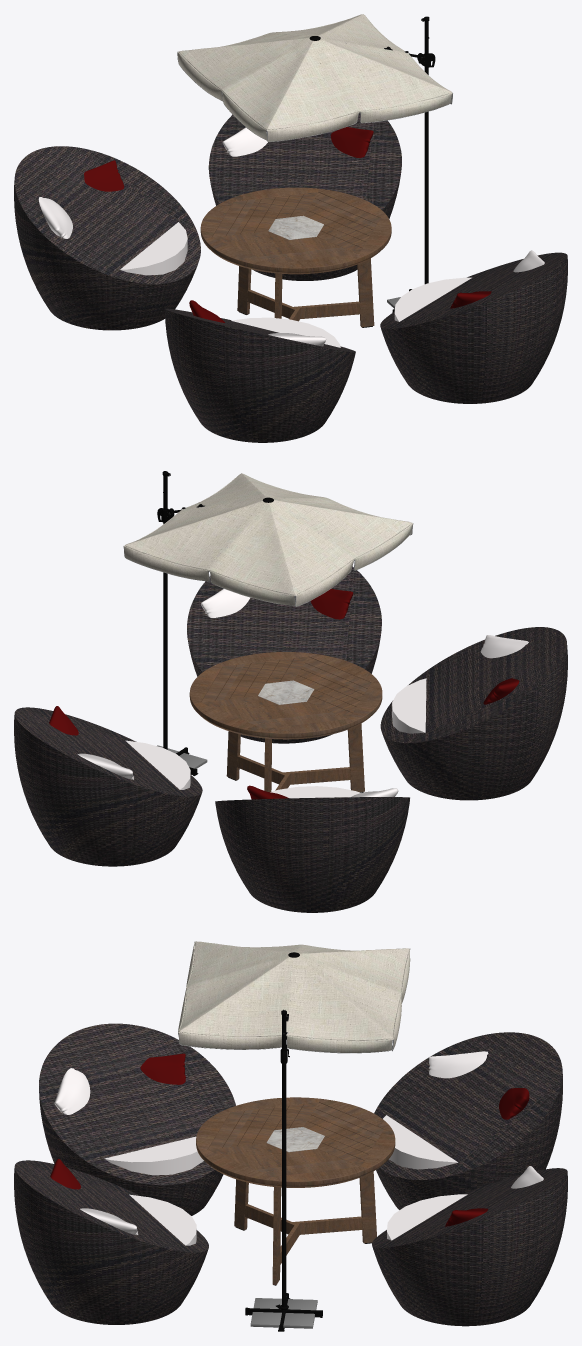
Rendered from 户外桌椅套组2.fbx.
3 views of the same model, one above another, from view 1: azimuth 30°, elevation 25°; view 2: azimuth 150°, elevation 25°; view 3: azimuth 270°, elevation 25° (orthographic). The views are drawn at different scales.
Parts seen in each view (by area): view 1: Group15, ____www_3dfox_cn_dtzl_2624_1057, Group11, Group7, ____www_3dfox_cn_dtzl_2624_1026, Group3, Group17, Group13, Group9, ____www_3dfox_cn_dtzl_2624_1048, coussin, coussin6 (+2 smaller); view 2: ____www_3dfox_cn_dtzl_2624_1057, Group7, Group3, Group15, ____www_3dfox_cn_dtzl_2624_1026, Group11, Group9, Group5, ____www_3dfox_cn_dtzl_2624_1048, coussin5, coussin4, Group17 (+1 smaller); view 3: ____www_3dfox_cn_dtzl_2624_1057, Group7, Group15, Group11, Group3, ____www_3dfox_cn_dtzl_2624_1026, Group9, ____www_3dfox_cn_dtzl_2624_1047, Group17, Group13, Group5, ____www_3dfox_cn_dtzl_2624_1048 (+6 smaller).
Boxes of the visible parts, <box> form: Group15: <box>14,146,200,330</box>; ____www_3dfox_cn_dtzl_2624_1057: <box>177,14,452,141</box>; Group11: <box>380,252,567,403</box>; Group7: <box>164,308,355,442</box>; ____www_3dfox_cn_dtzl_2624_1026: <box>200,187,391,327</box>; Group3: <box>208,112,401,280</box>; Group17: <box>120,222,187,275</box>; Group13: <box>394,277,471,321</box>; Group9: <box>231,317,340,347</box>; ____www_3dfox_cn_dtzl_2624_1048: <box>421,16,429,284</box>; coussin: <box>330,127,373,158</box>; coussin6: <box>84,160,124,191</box>; ____www_3dfox_cn_dtzl_2624_1057: <box>124,473,412,606</box>; Group7: <box>380,627,567,800</box>; Group3: <box>14,707,202,866</box>; Group15: <box>215,797,409,912</box>; ____www_3dfox_cn_dtzl_2624_1026: <box>189,652,382,792</box>; Group11: <box>187,566,381,743</box>; Group9: <box>392,678,426,733</box>; Group5: <box>125,740,190,789</box>; ____www_3dfox_cn_dtzl_2624_1048: <box>162,471,170,749</box>; coussin5: <box>201,589,250,617</box>; coussin4: <box>311,588,353,619</box>; Group17: <box>270,786,360,798</box>; ____www_3dfox_cn_dtzl_2624_1057: <box>178,941,410,1052</box>; Group7: <box>39,1023,235,1215</box>; Group15: <box>374,1032,562,1209</box>; Group11: <box>14,1160,208,1324</box>; Group3: <box>372,1168,567,1326</box>; ____www_3dfox_cn_dtzl_2624_1026: <box>196,1097,395,1285</box>; Group9: <box>104,1136,203,1175</box>; ____www_3dfox_cn_dtzl_2624_1047: <box>245,1293,322,1331</box>; Group17: <box>383,1115,457,1169</box>; Group13: <box>129,1194,196,1245</box>; Group5: <box>387,1194,467,1240</box>; ____www_3dfox_cn_dtzl_2624_1048: <box>281,1009,287,1307</box>.
Bounding box in the file's own units: 2618 × 2006 × 3275.
